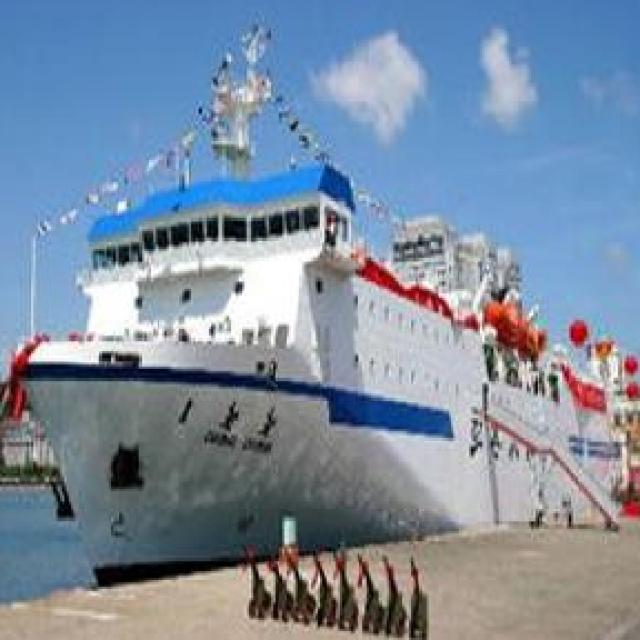passenger ship: (27, 153, 615, 571)
